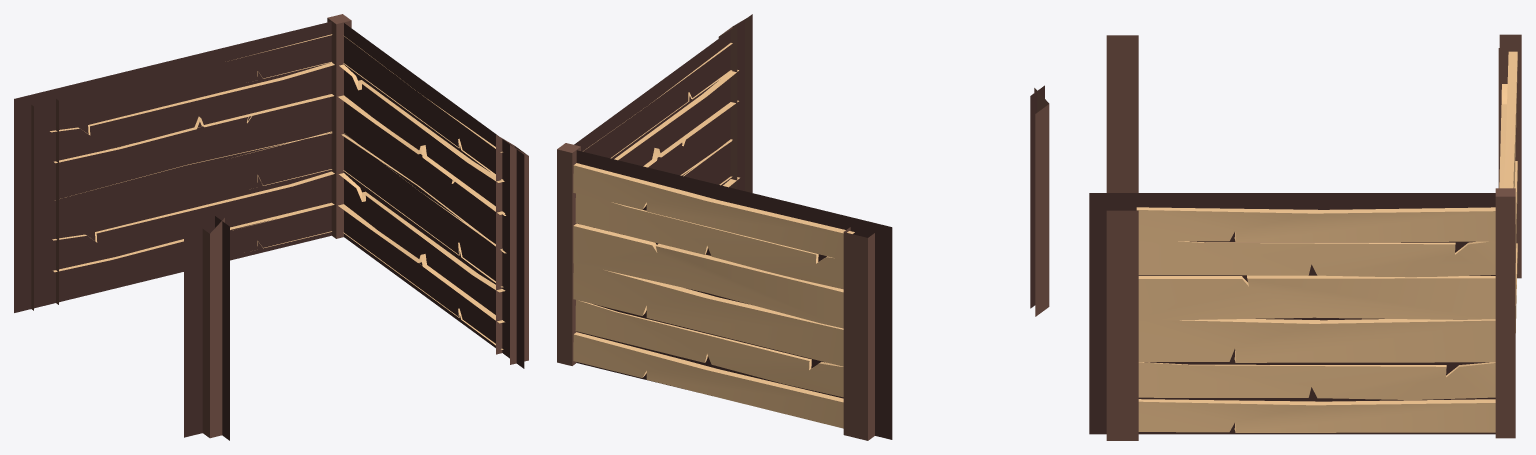
The model's file is Building_Angle_002.glb.
3 renders of one model, left to right at view 1: azimuth 30°, elevation 25°; view 2: azimuth 150°, elevation 25°; view 3: azimuth 270°, elevation 25°, orthographic. The views are drawn at different scales.
Visible parts, largest first — view 1: Building_Angle_002; view 2: Building_Angle_002; view 3: Building_Angle_002.
Part boxes in pixels (x1,y1,x2,y2): Building_Angle_002: (14, 14, 528, 440); Building_Angle_002: (557, 14, 1049, 440); Building_Angle_002: (1089, 34, 1521, 440).
Size of the model in its own units: 7.4 by 4.61 by 7.29.
1 material, 1 textured.
